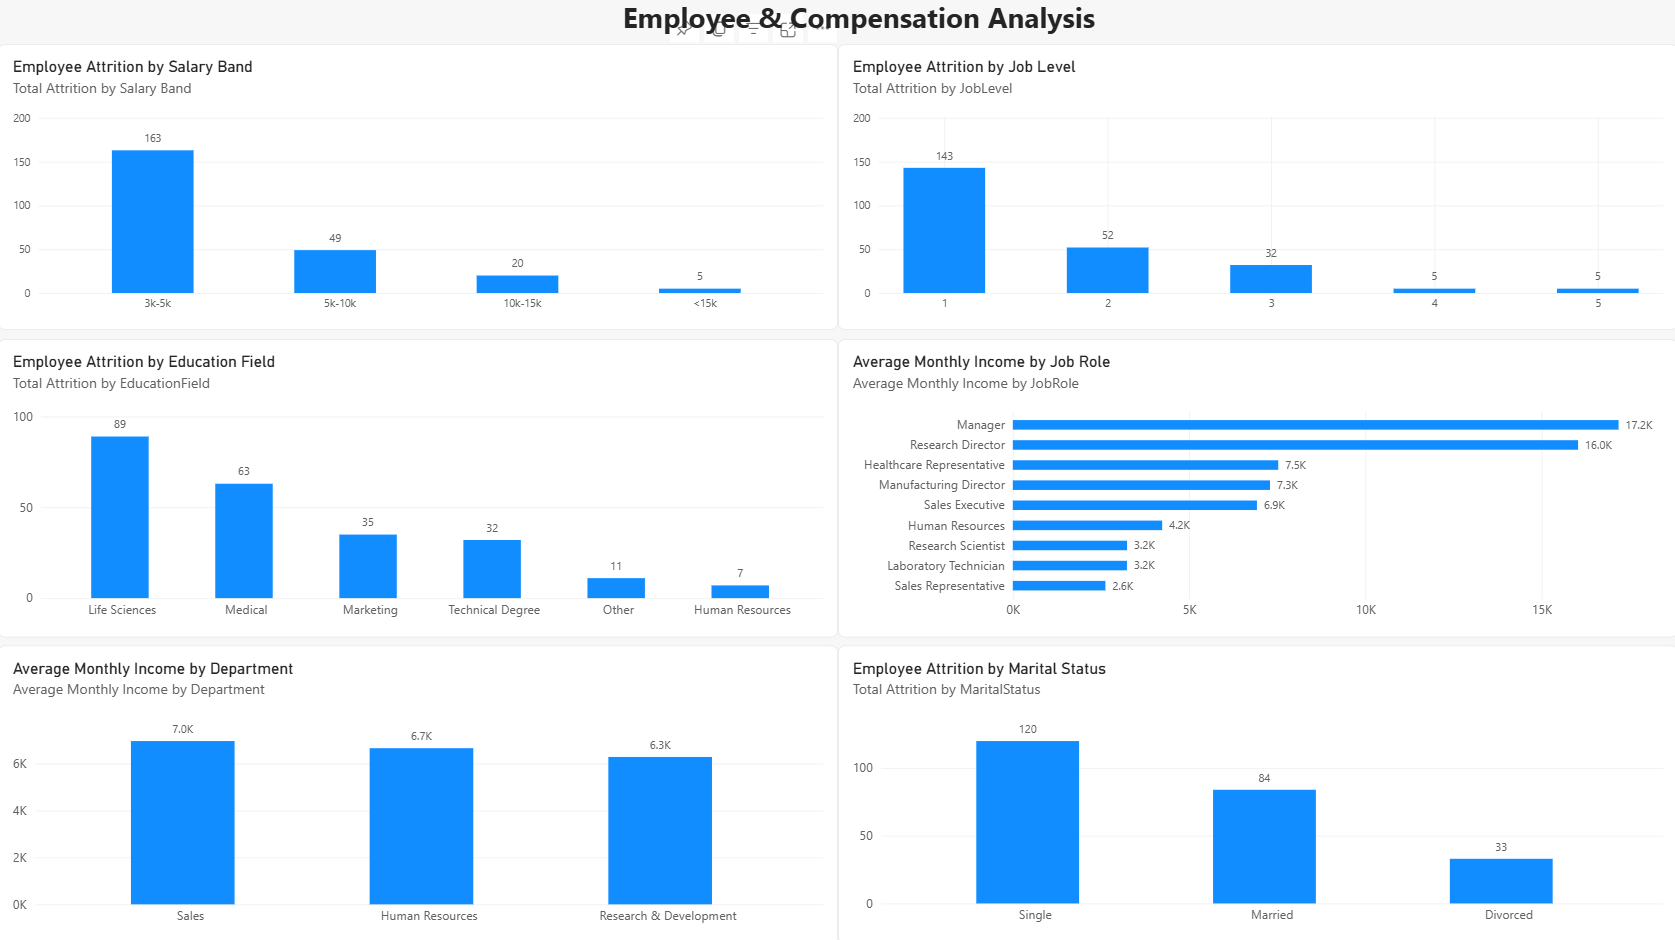

The page's visual inventory and layout, read from the dashboard file:
{"tool":"powerbi","page":{"name":"Page 2","canvas":[1920,1080],"ordinal":1},"visuals":[{"type":"clusteredColumnChart","title":"Employee Attrition by Salary Band","fields":{"Category":["HR.Salary Band"],"Y":["HR.Total Attrition"]},"box":[0,53.2,960.2,326.5],"z":0},{"type":"clusteredColumnChart","title":"Employee Attrition by Job Level","fields":{"Category":["HR.JobLevel"],"Y":["HR.Total Attrition"]},"box":[960.2,53.2,960.2,326.5],"z":1},{"type":"clusteredColumnChart","title":"Employee Attrition by Education Field","fields":{"Category":["HR.EducationField"],"Y":["HR.Total Attrition"]},"box":[0,389.4,960.2,341],"z":2},{"type":"clusteredBarChart","title":"Average Monthly Income by Job Role","fields":{"Category":["HR.JobRole"],"Y":["HR.Average Monthly Income"]},"box":[960.2,389.4,960.2,341],"z":3},{"type":"clusteredColumnChart","title":"Average Monthly Income by Department","fields":{"Category":["HR.Department"],"Y":["HR.Average Monthly Income"]},"box":[0,740.1,960.2,341],"z":4},{"type":"clusteredColumnChart","title":"Employee Attrition by Marital Status","fields":{"Category":["HR.MaritalStatus"],"Y":["HR.Total Attrition"]},"box":[960,740,960,340],"z":5},{"type":"textbox","box":[99.2,0,1770.5,53.2],"z":9}]}

Visuals, with their boxes in screenshot pixels (x1, y1, x2, y2), scaled from the page's 1920x1080 canvas onto the 1675x940 screenshot:
"Employee Attrition by Salary Band" clusteredColumnChart: x1=0 y1=46 x2=838 y2=330
"Employee Attrition by Job Level" clusteredColumnChart: x1=838 y1=46 x2=1674 y2=330
"Employee Attrition by Education Field" clusteredColumnChart: x1=0 y1=339 x2=838 y2=636
"Average Monthly Income by Job Role" clusteredBarChart: x1=838 y1=339 x2=1674 y2=636
"Average Monthly Income by Department" clusteredColumnChart: x1=0 y1=644 x2=838 y2=939
"Employee Attrition by Marital Status" clusteredColumnChart: x1=838 y1=644 x2=1674 y2=939
textbox: x1=87 y1=0 x2=1631 y2=46
